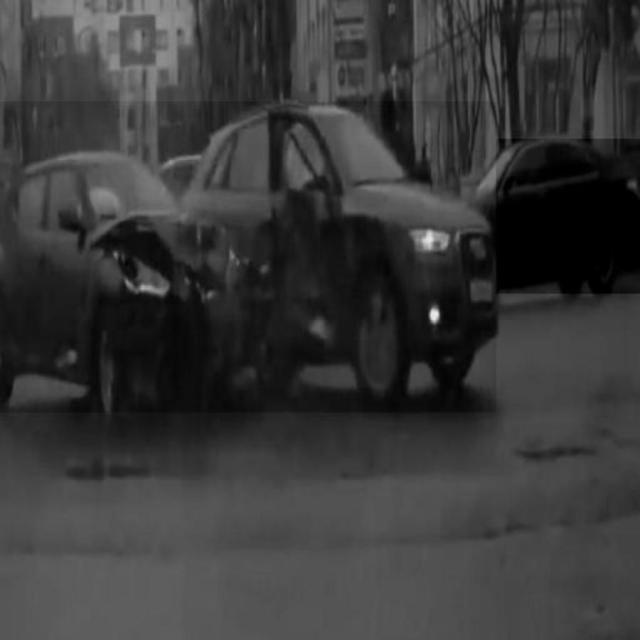accident: (0, 101, 496, 412)
vehicle: (478, 140, 640, 294)
